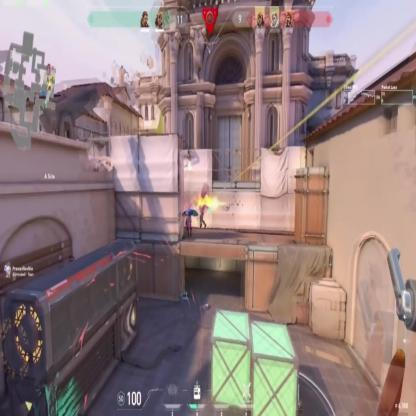enemy: (197, 199, 206, 228), (185, 204, 192, 237)
enemy_head: (187, 204, 189, 210)
